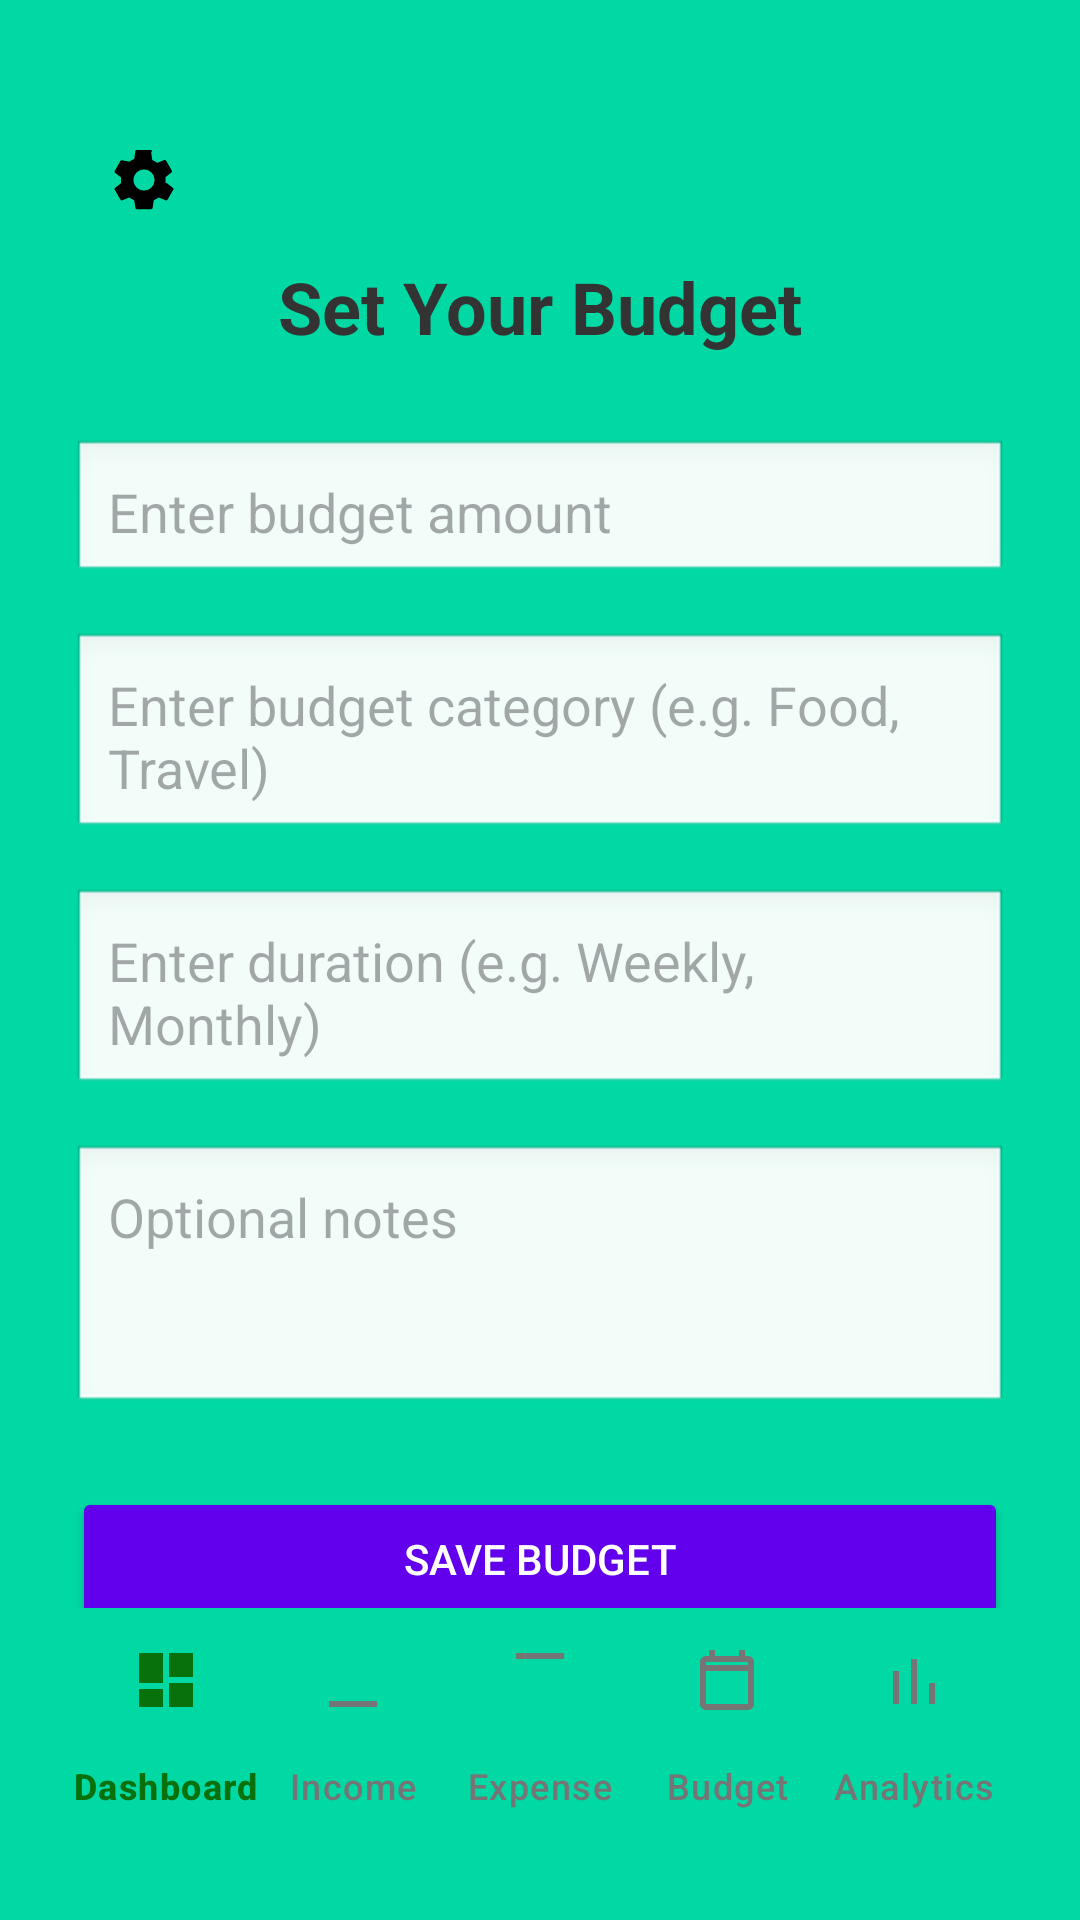

Screen size 1080px×1920px. Icon name, then its center in pixels as (x,y):
Setting: (144,180)
